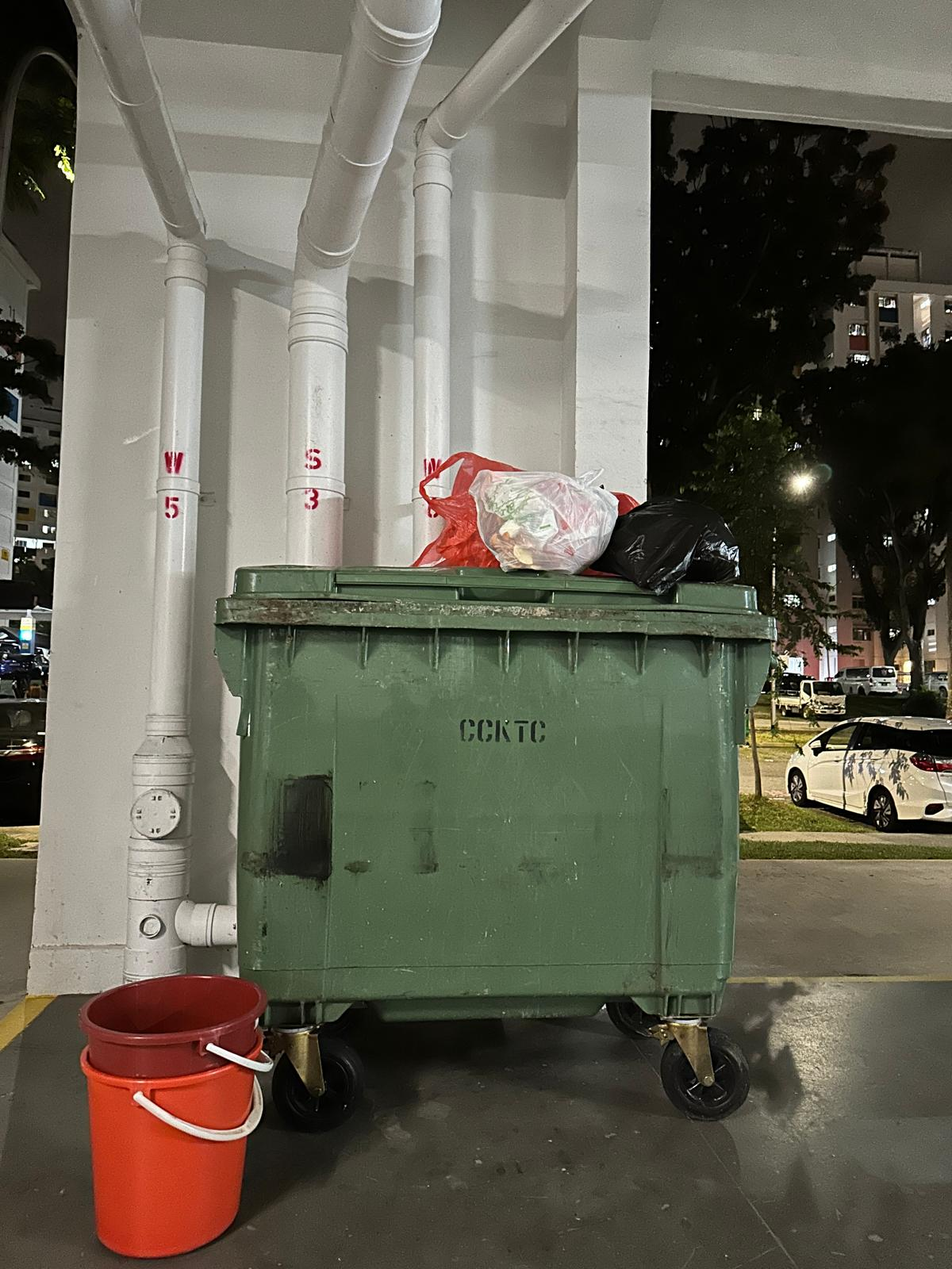bin_empty: (217, 565, 771, 1056)
bulk_waste: (79, 975, 271, 1258)
normal_waste: (471, 471, 617, 573), (593, 498, 739, 595), (413, 451, 518, 568)
vehicle: (786, 715, 951, 830)
